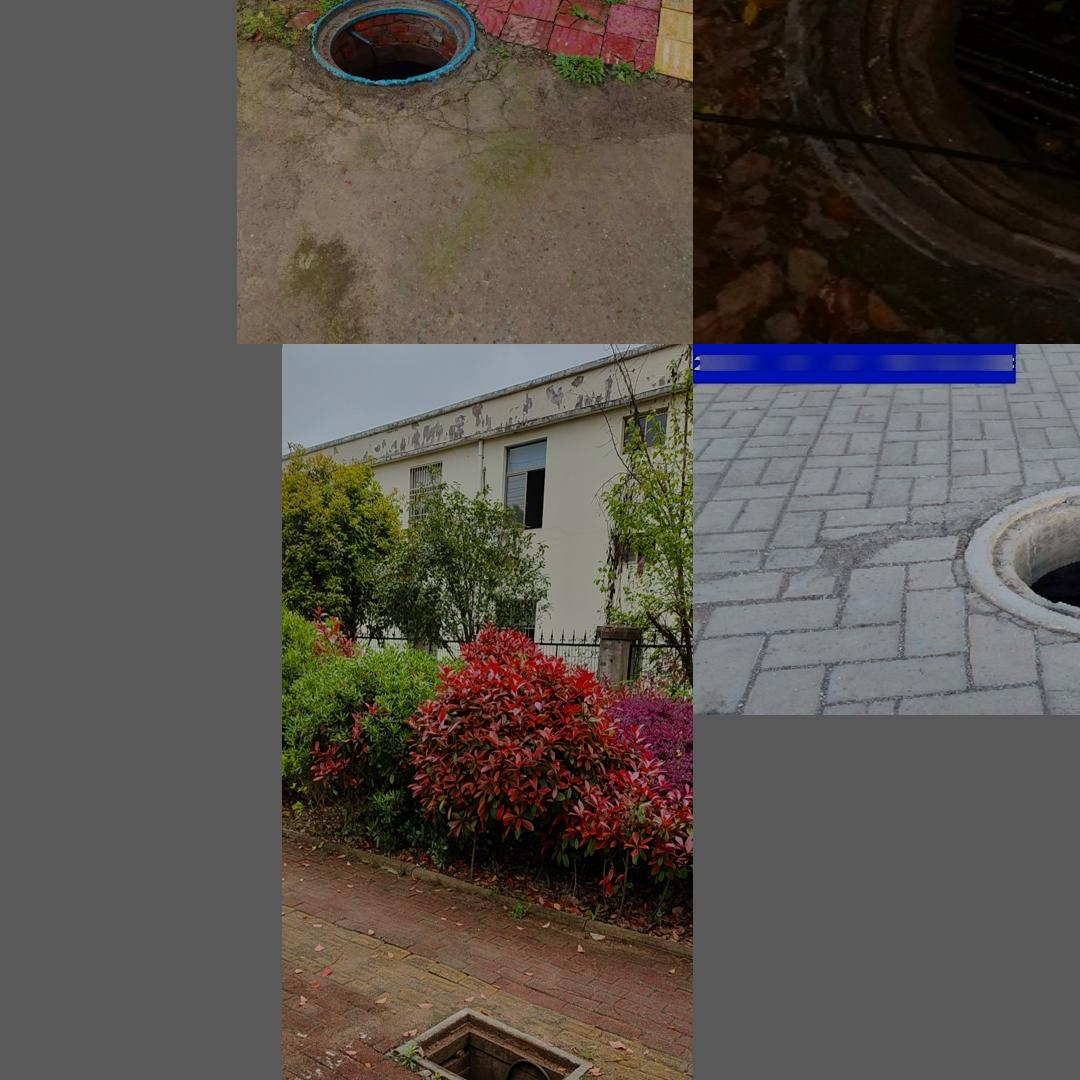lose: (782, 0, 1080, 321), (388, 987, 607, 1080), (963, 480, 1080, 625), (309, 0, 473, 83)
